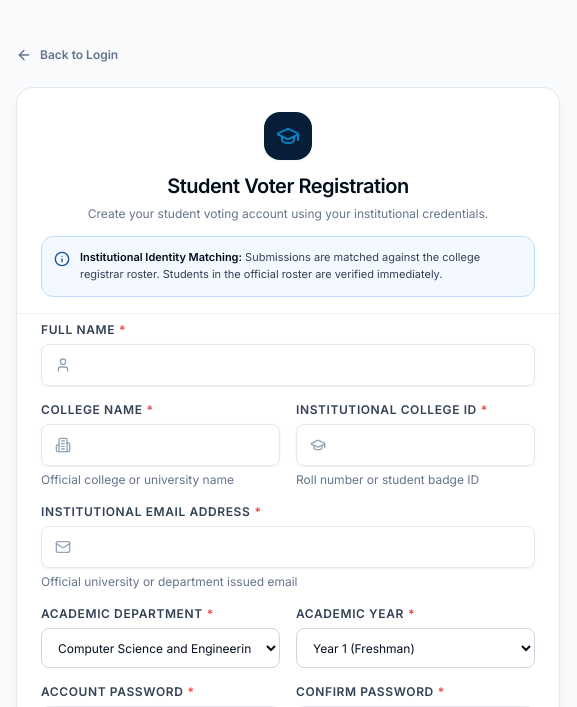
Test: Student Self-Service Registration Workflows › submits valid registration and displays verified screen with College Name
Type "Rohan Sharma" into the field labelled "Full Name*". click: (288, 365)
box: [41,344,535,386]
Type "GMR Institute of Technology" into the field labelled "College Name*". click: (160, 445)
box: [41,424,280,466]
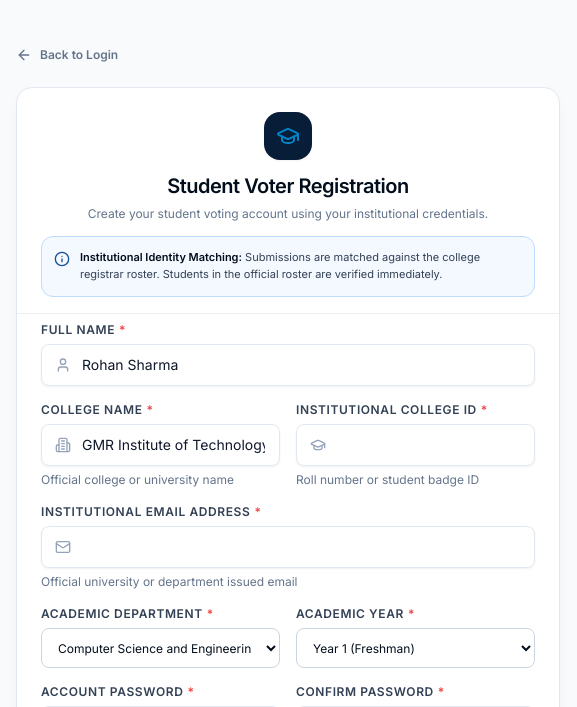
Type "23341A4234" into the field labelled "Institutional College ID*". click: (416, 445)
box: [296,424,535,466]
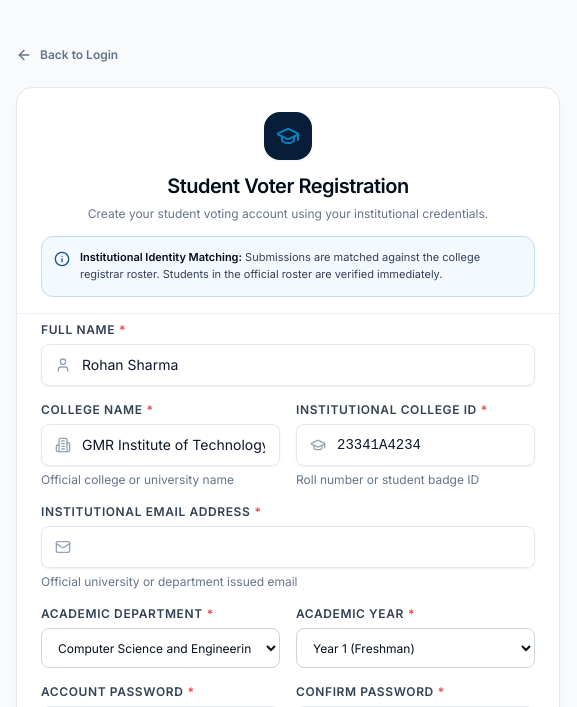
Type "rohan@gmrit.edu.in" into the field labelled "Institutional Email Address*". click: (288, 547)
box: [41,526,535,568]
(page scrolled)
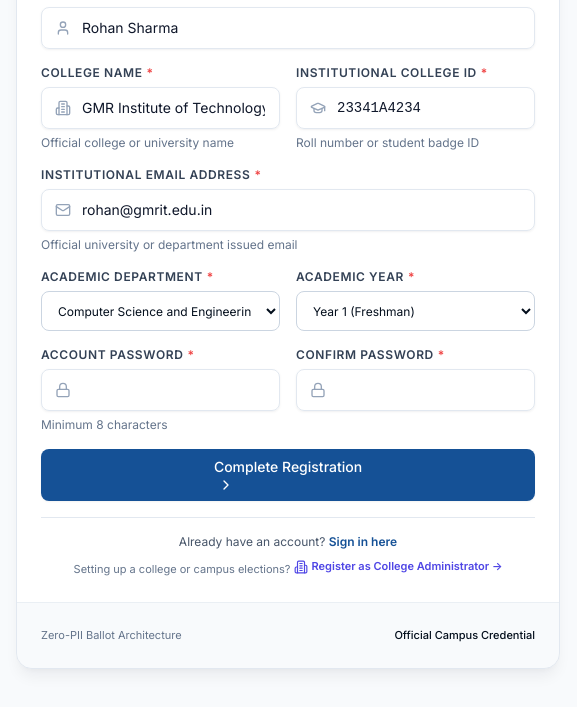
Type "SecurePass123!" into the password field labelled "Account Password*". click: (160, 390)
box: [41,369,280,411]
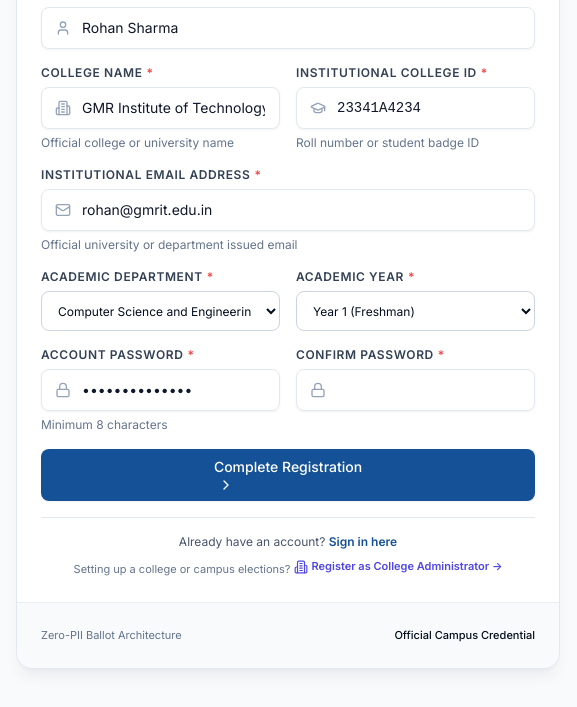
Type "SecurePass123!" into the password field labelled "Confirm Password*". click: (416, 390)
box: [296,369,535,411]
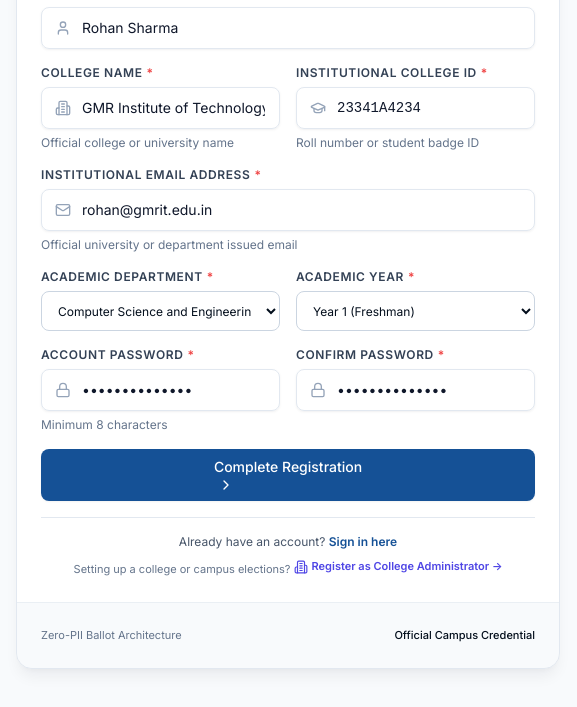
Click the button "Complete Registration". click: (288, 475)
box: [41,449,535,501]
(page scrolled)
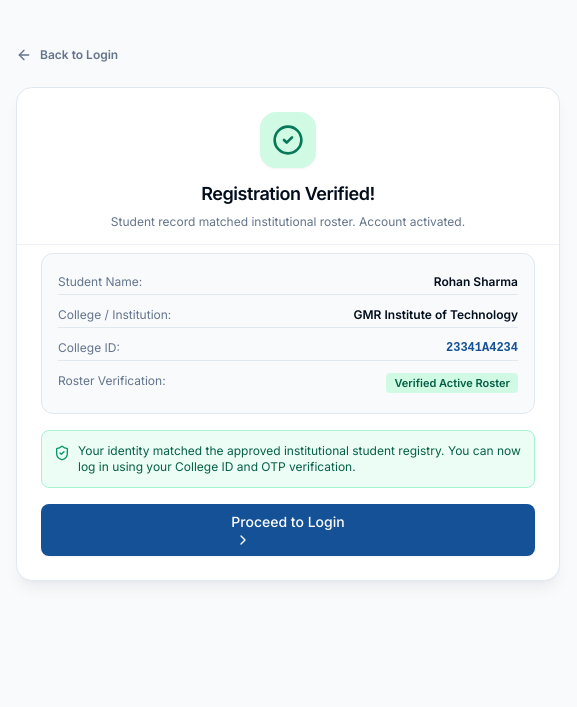
Check: the heading "Registration Verified!" is shown, box [201,183,375,204]
Check: the text "GMR Institute of Technology" is shown, box [354,306,518,322]
Check: the button "Proceed to Login" is shown, box [41,504,535,556]
